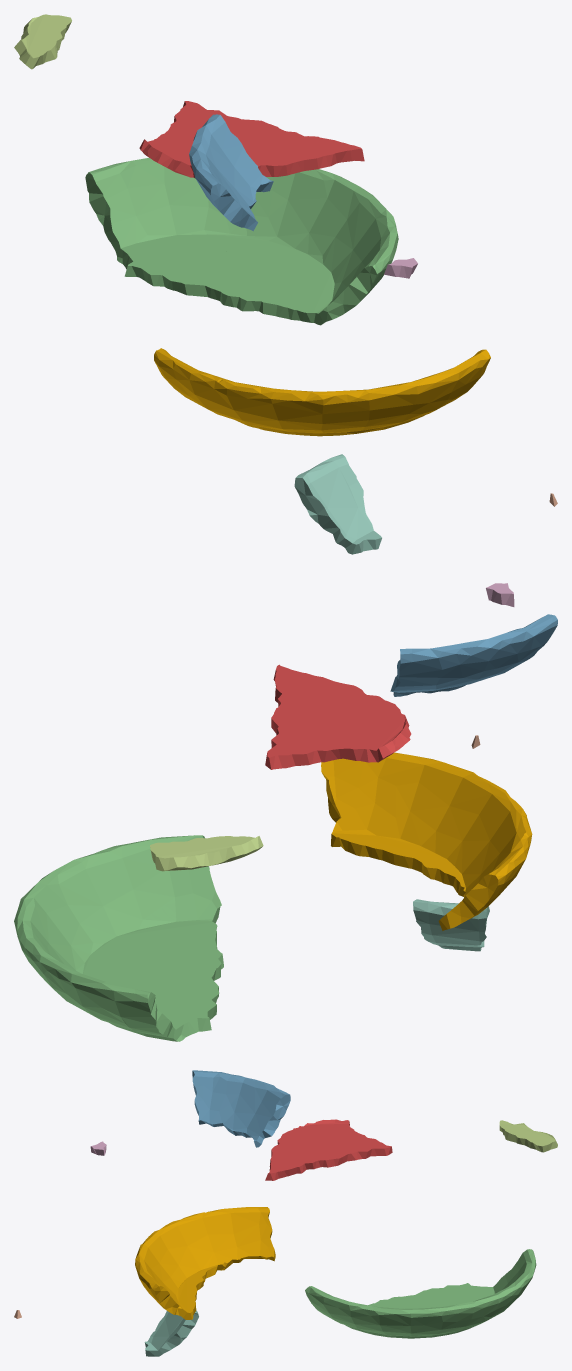
Rendered from fractured_51_8pcs_transformed.glb.
3 renders of one model, top to bottom at view 1: azimuth 30°, elevation 25°; view 2: azimuth 150°, elevation 25°; view 3: azimuth 270°, elevation 25°, orthographic. The views are drawn at different scales.
Visible parts, largest first — view 1: piece_3.obj, piece_0.obj, piece_1.obj, piece_2.obj, piece_4.obj, piece_5.obj; view 2: piece_3.obj, piece_0.obj, piece_1.obj, piece_2.obj, piece_5.obj, piece_4.obj; view 3: piece_0.obj, piece_3.obj, piece_2.obj, piece_1.obj, piece_4.obj, piece_5.obj.
Boxes of the visible parts, x1,y1,x2,y2 form: piece_3.obj: (85, 158, 398, 325); piece_0.obj: (154, 348, 490, 436); piece_1.obj: (139, 101, 364, 178); piece_2.obj: (189, 114, 273, 231); piece_4.obj: (294, 454, 381, 554); piece_5.obj: (14, 14, 71, 69); piece_3.obj: (14, 835, 223, 1041); piece_0.obj: (321, 752, 532, 930); piece_1.obj: (265, 664, 411, 769); piece_2.obj: (390, 614, 557, 696); piece_5.obj: (150, 836, 263, 871); piece_4.obj: (413, 899, 489, 951); piece_0.obj: (135, 1207, 275, 1319); piece_3.obj: (305, 1249, 536, 1338); piece_2.obj: (192, 1070, 290, 1147); piece_1.obj: (265, 1119, 392, 1180); piece_4.obj: (144, 1310, 198, 1356); piece_5.obj: (499, 1120, 557, 1152).
Bounding box in the file's own units: 1 × 1.08 × 2.17.
